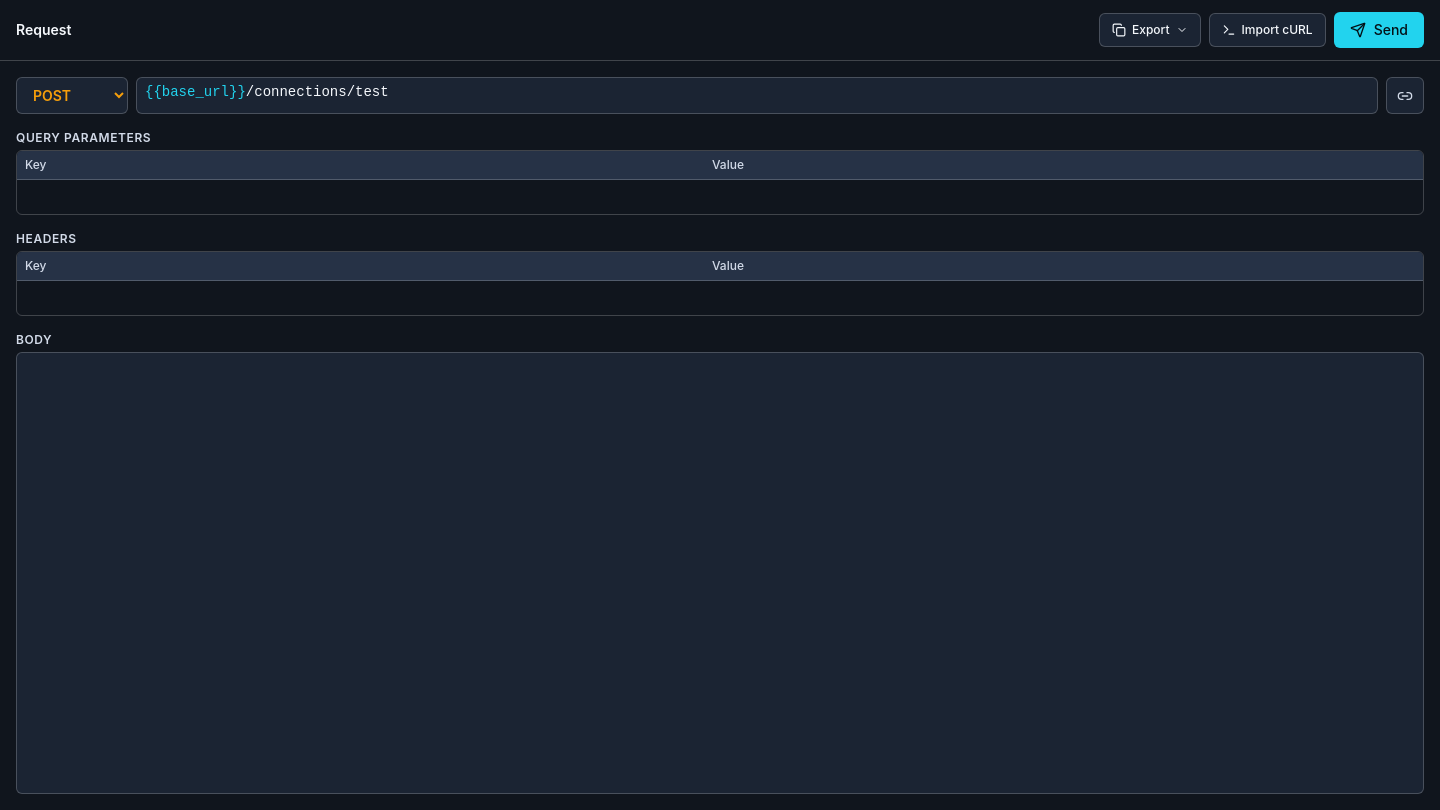
RequestBuilder › toggles between template and resolved URL preview
Expected: the field named "url" holds "{{base_url}}/connections/test", [137, 78, 1377, 108]
What coordinates should you click on to do the following:
click the button named "resolved url"
I would click on:
 (1405, 96)
Its box is [1386, 77, 1424, 114].
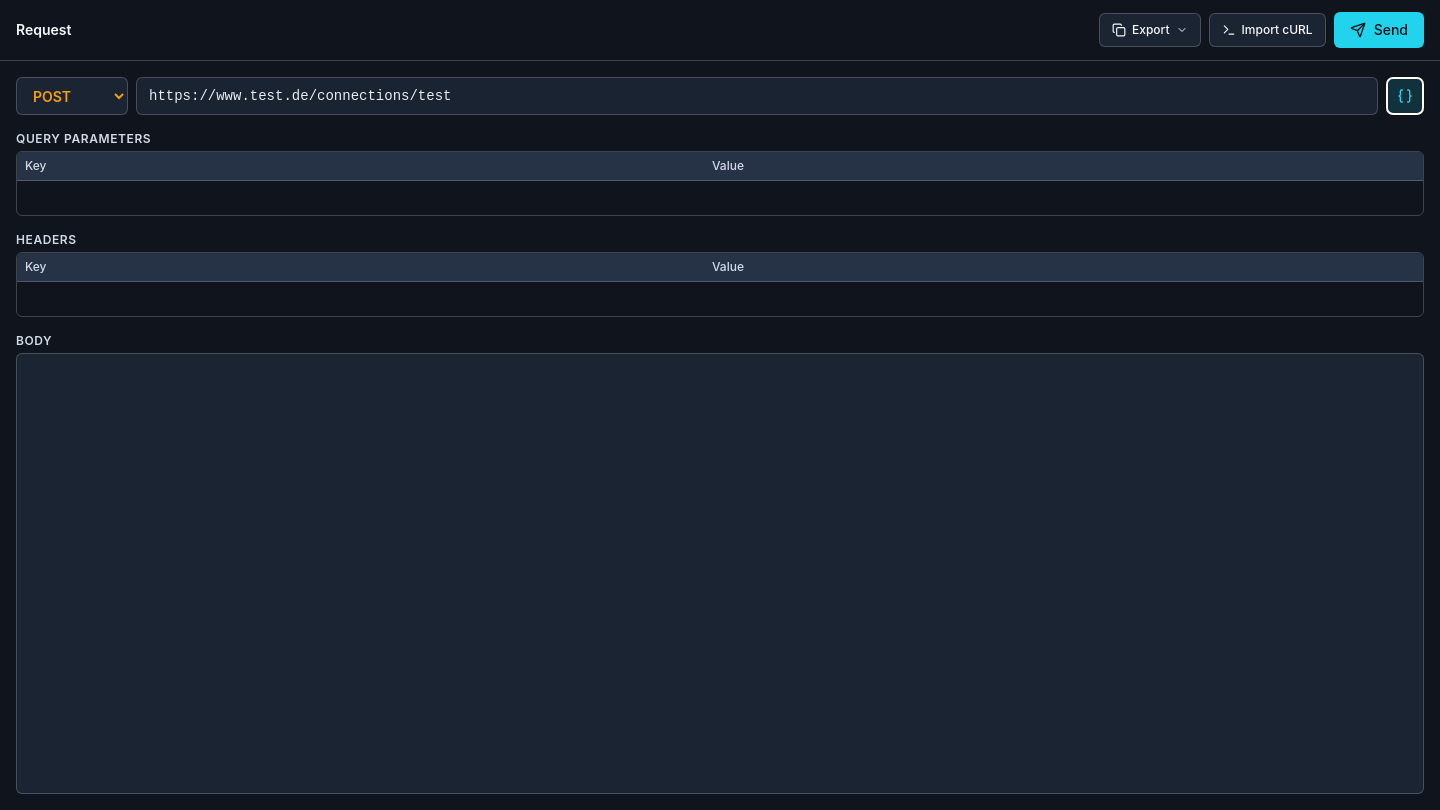
Expected: the field named "url" holds "https://www.test.de/connections/test", [137, 78, 1377, 114]
